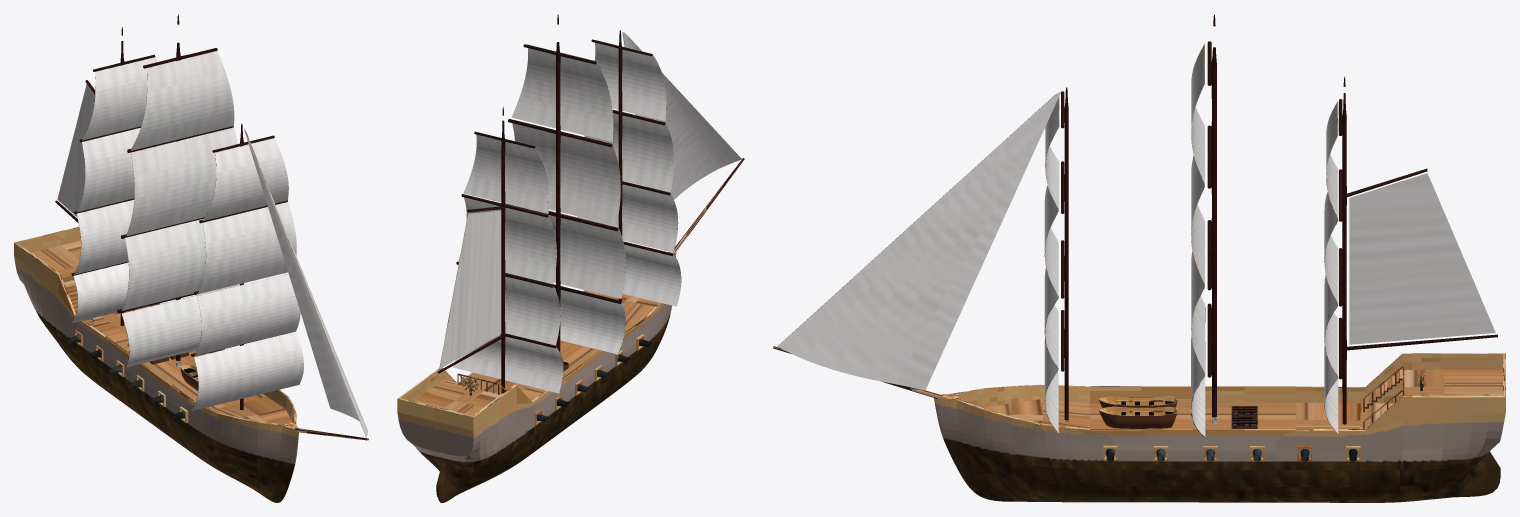
File: F-01.---2-Тулстуры-Парус_Палубаblend.fbx
3 views of the same model, side by side, from view 1: azimuth 30°, elevation 25°; view 2: azimuth 150°, elevation 25°; view 3: azimuth 270°, elevation 25° (orthographic). The views are drawn at different scales.
Visible parts, largest first — view 1: Cube; view 2: Cube; view 3: Cube.
Boxes of the visible parts, x1=… form: Cube: x1=14, y1=14, x2=368, y2=502; Cube: x1=397, y1=14, x2=744, y2=502; Cube: x1=773, y1=14, x2=1505, y2=502.
Size of the model in its own units: 320 by 1033 by 1405.
1 material, 1 textured.
